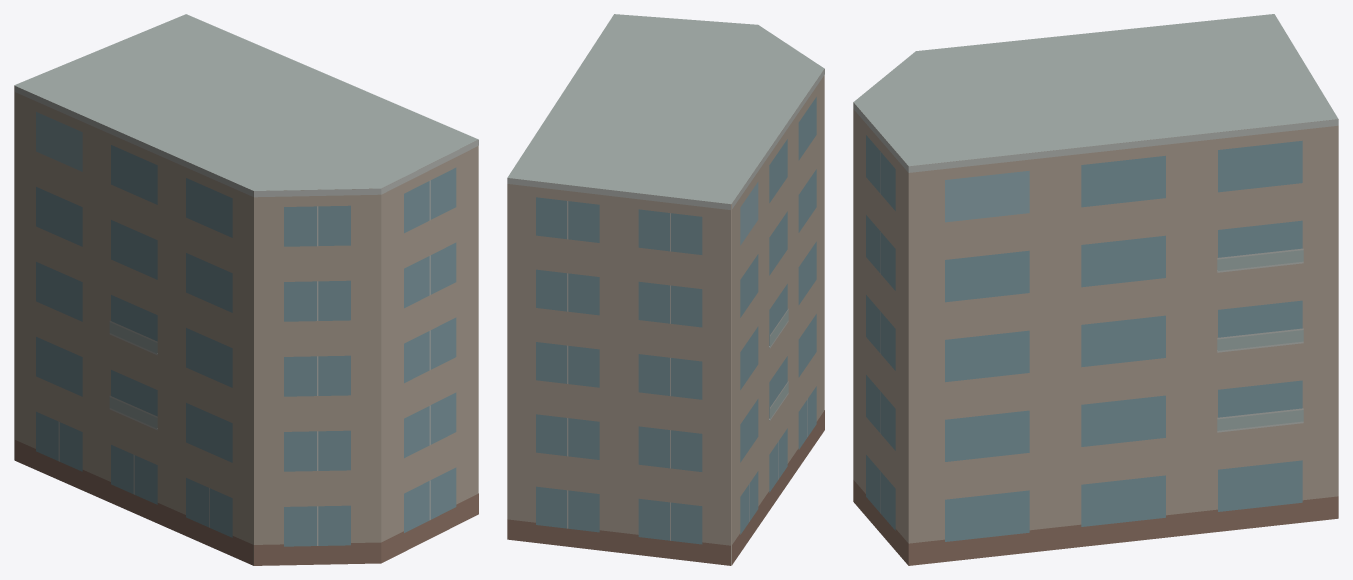
File: survey-upis-32651482.glb
The picture shows the model from 3 angles, left to right: view 1: azimuth 30°, elevation 25°; view 2: azimuth 150°, elevation 25°; view 3: azimuth 270°, elevation 25°; orthographic projection. The views are drawn at different scales.
Parts seen in each view (by area): view 1: survey-upis-32651482.tmp; view 2: survey-upis-32651482.tmp; view 3: survey-upis-32651482.tmp.
Part boxes in pixels (left/top/right/bottom): survey-upis-32651482.tmp: left=14, top=14, right=478, bottom=565; survey-upis-32651482.tmp: left=507, top=14, right=824, bottom=565; survey-upis-32651482.tmp: left=853, top=14, right=1338, bottom=565.
Bounding box in the file's own units: 12.07 × 14.75 × 16.24.
